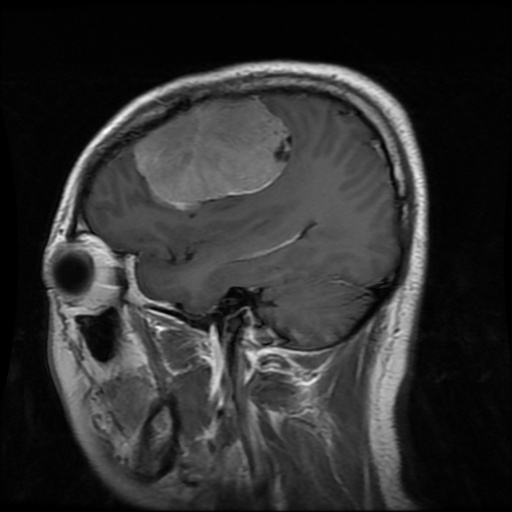meningioma: (134, 96, 292, 206)
